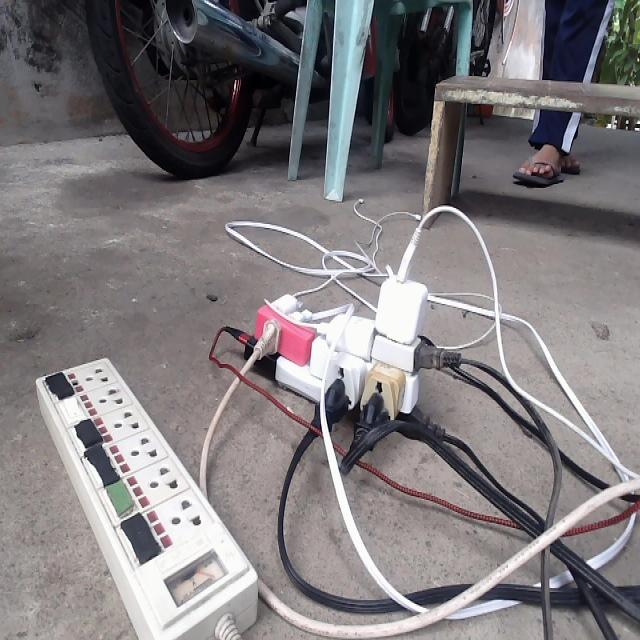-: (221, 227, 460, 453)
